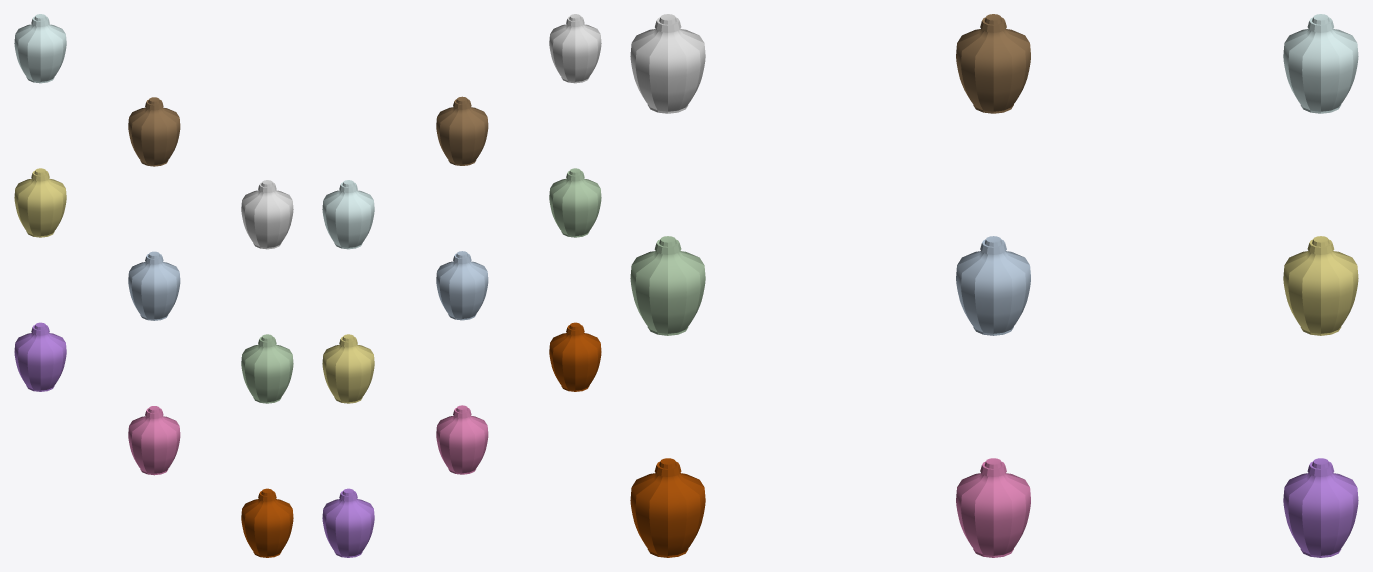
Rendered from vase_2.fbx.
The picture shows the model from 3 angles, left to right: view 1: azimuth 30°, elevation 25°; view 2: azimuth 150°, elevation 25°; view 3: azimuth 270°, elevation 25°; orthographic projection. The views are drawn at different scales.
Parts seen in each view (by area): view 1: pCylinder165, pCylinder210, pCylinder219, pCylinder237, pCylinder174, pCylinder192, pCylinder201, pCylinder228, pCylinder183; view 2: pCylinder165, pCylinder183, pCylinder192, pCylinder210, pCylinder237, pCylinder219, pCylinder201, pCylinder228, pCylinder174; view 3: pCylinder192, pCylinder219, pCylinder201, pCylinder228, pCylinder183, pCylinder210, pCylinder237, pCylinder174, pCylinder165.
Boxes of the visible parts, x1,y1,x2,y2 form: pCylinder165: (128,251,180,320); pCylinder210: (241,488,293,557); pCylinder219: (14,168,66,237); pCylinder237: (14,322,66,391); pCylinder174: (128,97,180,166); pCylinder192: (241,334,293,403); pCylinder201: (241,180,293,249); pCylinder228: (14,14,66,83); pCylinder183: (128,406,180,475); pCylinder165: (436,251,488,320); pCylinder183: (436,405,488,474); pCylinder192: (549,168,601,237); pCylinder210: (549,322,601,391); pCylinder237: (322,488,374,557); pCylinder219: (322,334,374,403); pCylinder201: (549,14,601,83); pCylinder228: (322,180,374,249); pCylinder174: (436,96,488,165); pCylinder192: (630,236,705,335); pCylinder219: (1283,236,1358,335); pCylinder201: (630,14,705,113); pCylinder228: (1283,14,1358,113); pCylinder183: (956,458,1030,557); pCylinder210: (630,458,705,557); pCylinder237: (1283,458,1358,557); pCylinder174: (956,14,1030,113); pCylinder165: (956,236,1030,335).
Size of the model in its own units: 2.76 by 21.56 by 26.74.
